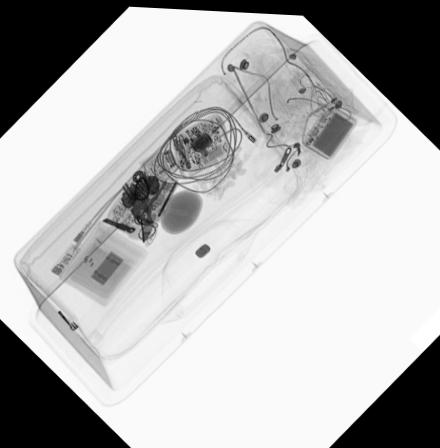Powerbank: (298, 97, 358, 158)
